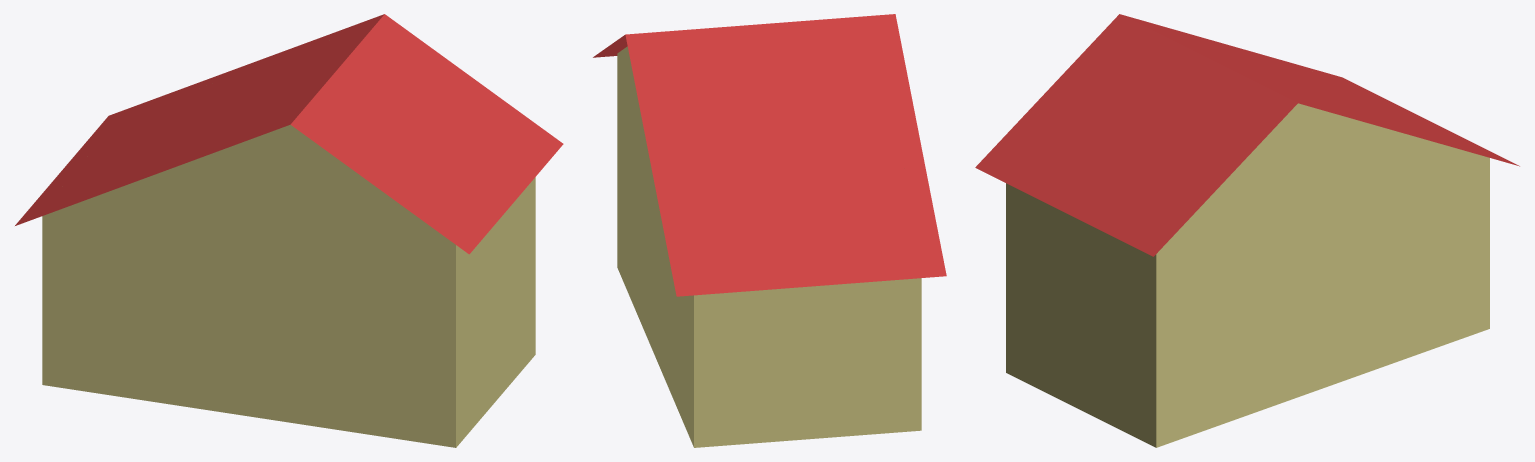
3 renders of one model, left to right at view 1: azimuth 30°, elevation 25°; view 2: azimuth 150°, elevation 25°; view 3: azimuth 270°, elevation 25°, orthographic.
Size of the model in its own units: 17.92 by 18.75 by 11.61.
